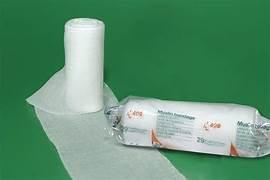Bandage: (27, 18, 184, 179), (105, 97, 269, 156), (27, 18, 104, 114)
cotton: (35, 107, 184, 179)
